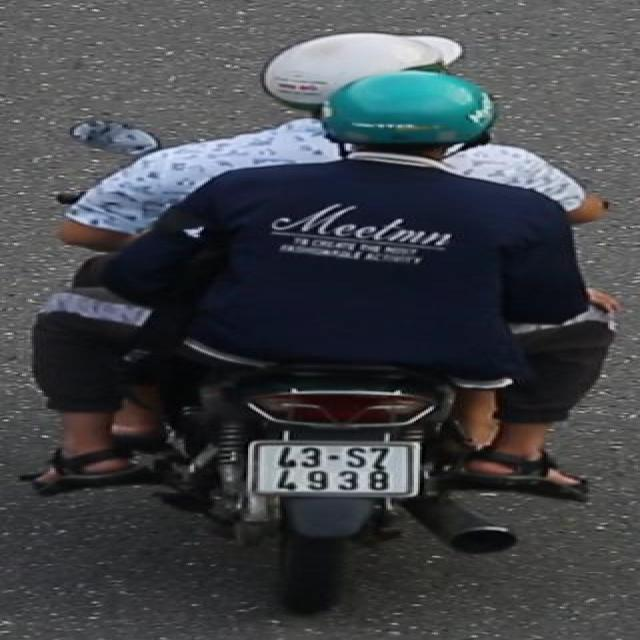LP: (246, 434, 424, 500)
helmet: (306, 71, 518, 183), (252, 26, 484, 112)
